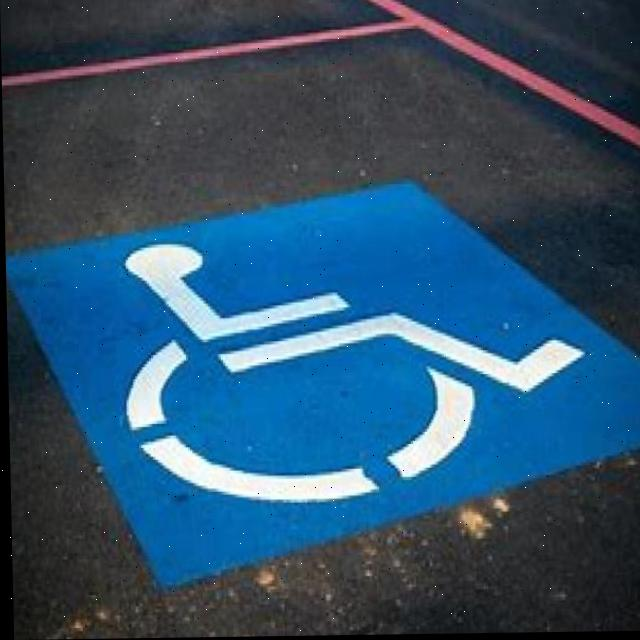symbol_of_access: (112, 240, 587, 508)
